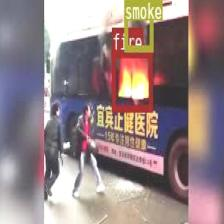fire: (111, 50, 152, 111)
smoke: (123, 0, 152, 50)
